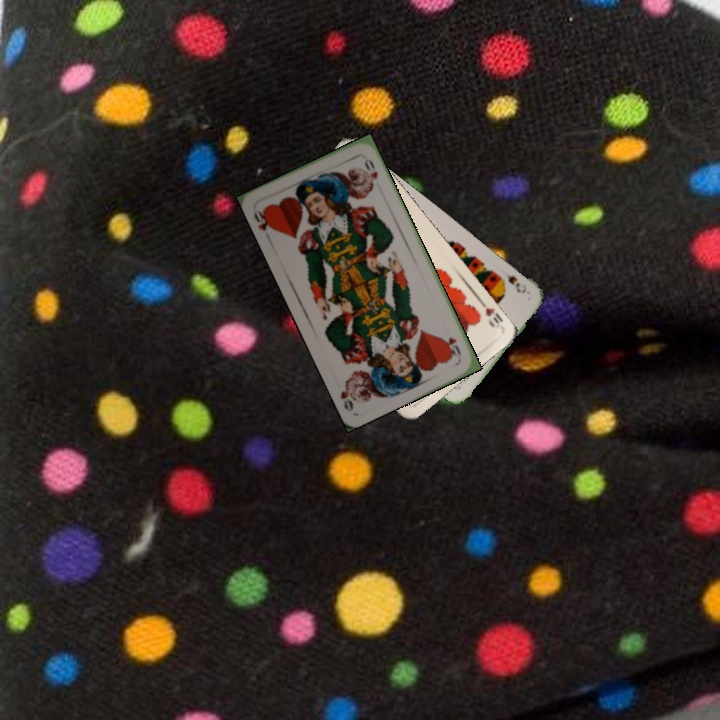H10: (475, 296, 506, 329)
HO: (249, 205, 277, 234), (441, 333, 464, 358)
S9: (501, 270, 529, 296)
